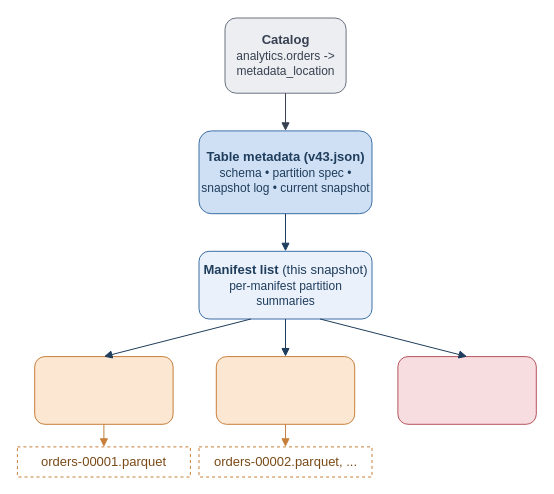
The diagram is 554 pixels wide and 494 high, and some of its shapes have lost their labels. Here are the shapes that lost their labels. From the top down, the centre of each, then its label:
At point 103,390: "Manifest A data files, day=03-05".
At point 285,390: "Manifest B data files, day=03-06".
At point 466,390: "Manifest C position delete files".
